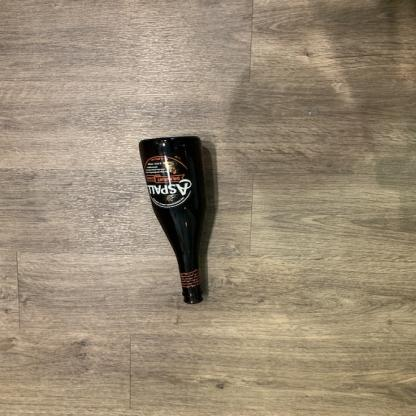trash: (134, 133, 214, 306)
